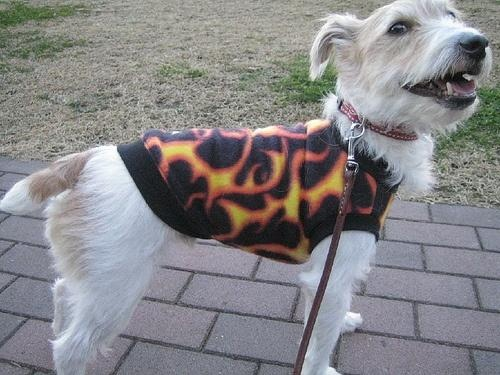dog: (1, 1, 493, 375)
